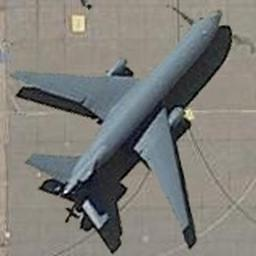Airplane: (10, 4, 233, 253)
